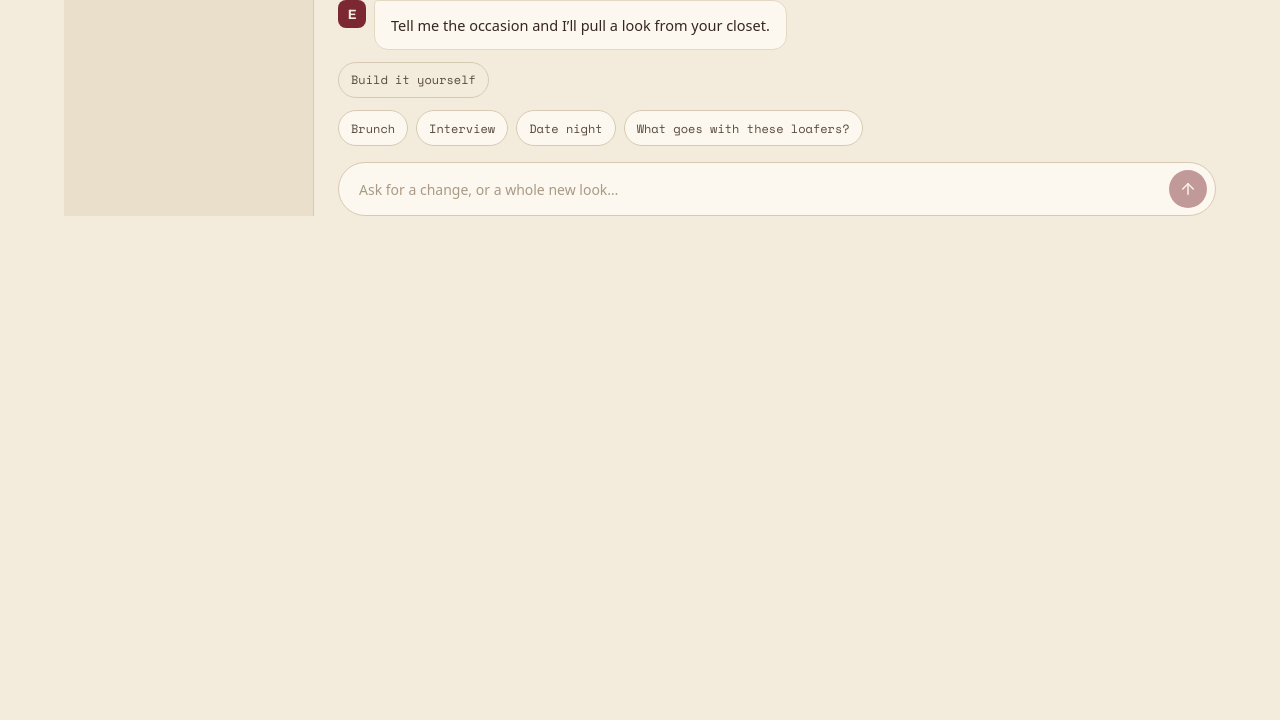
Test: Stylist route › appends both the user turn and the assistant reply to the stream
Type "streetwear today" into the field named "message the stylist".
click(758, 190); type("streetwear today")  # box [357,179,1159,200]
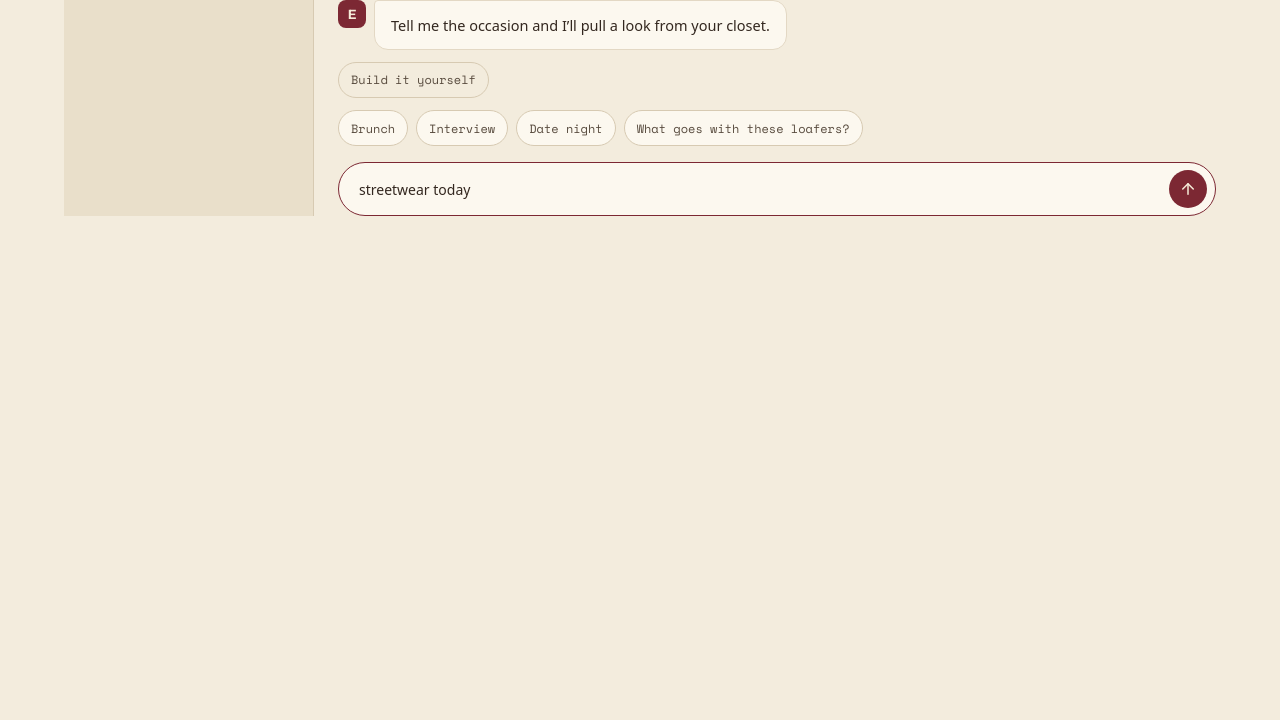
Click the button named "send".
click(1188, 190)  # box [1169,170,1207,208]
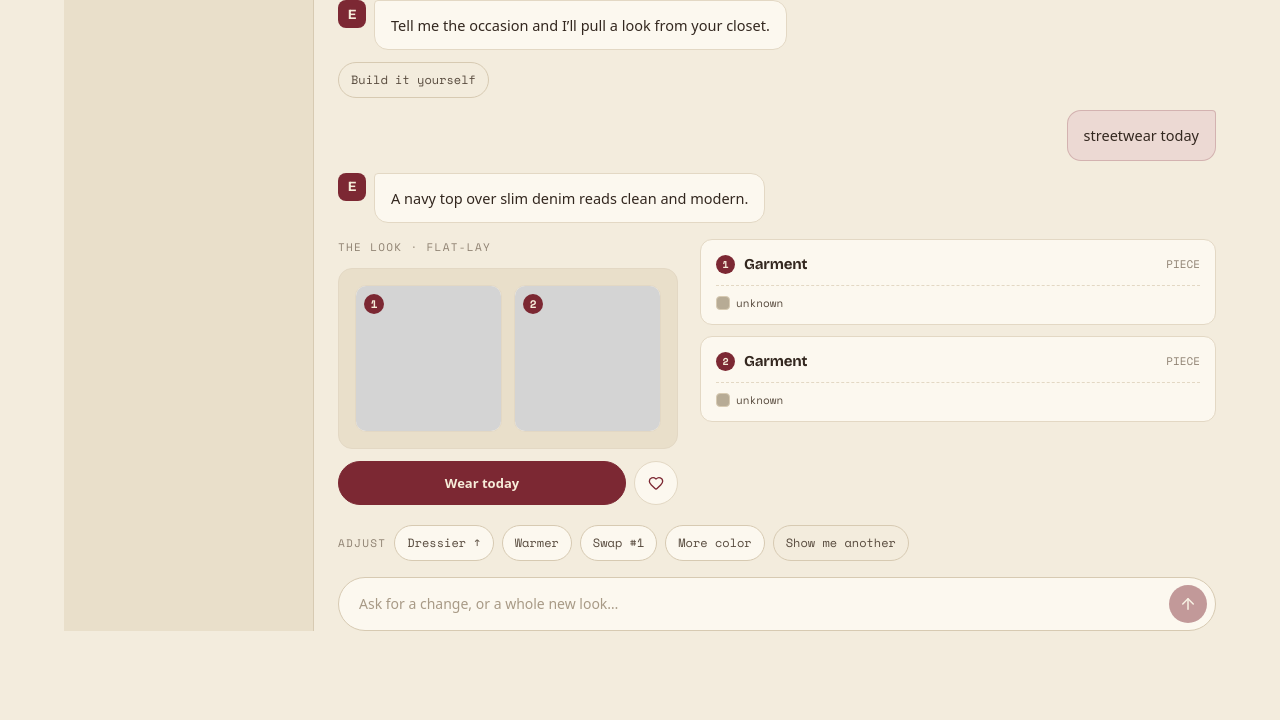
expect the text "streetwear today" is shown: met, box [1067,110,1216,161]
expect the text "A navy top over slim denim reads clean and modern." is shown: met, box [374,173,766,223]
